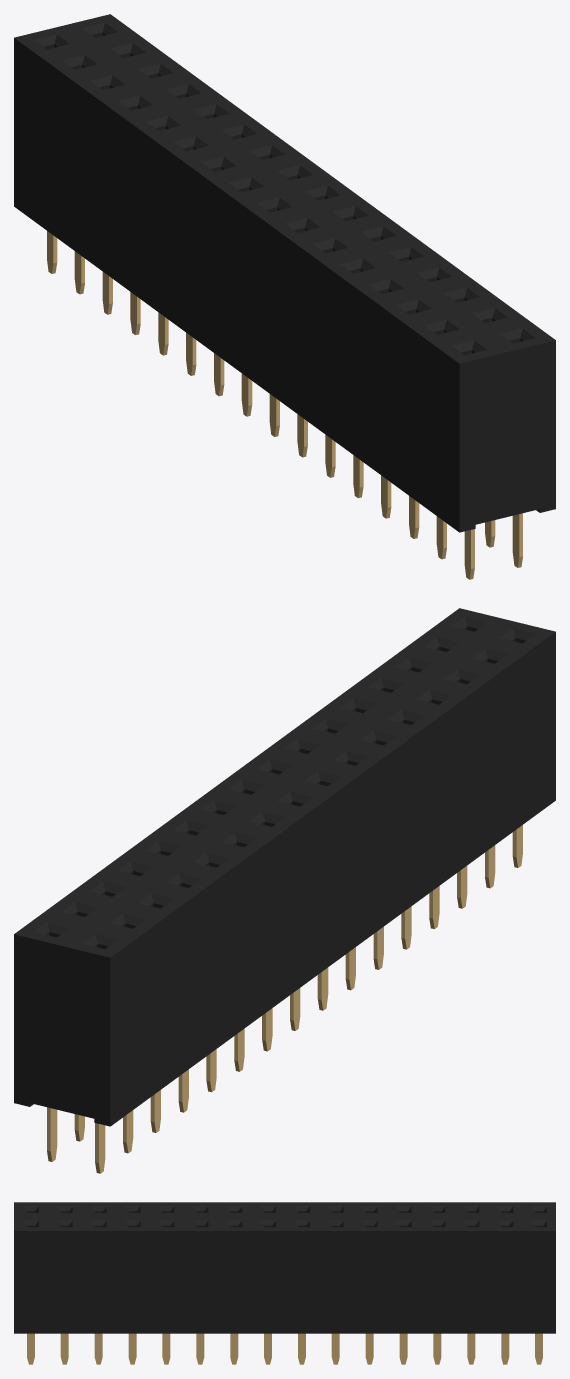
File: kc-pinsocket_2x16_p2.54mm_vertical.glb
3 views of the same model, one above another, from view 1: azimuth 30°, elevation 25°; view 2: azimuth 150°, elevation 25°; view 3: azimuth 270°, elevation 25° (orthographic). The views are drawn at different scales.
Parts seen in each view (by area): view 1: 0_0_0_0, 0.75_0.5_0.25_0.9; view 2: 0_0_0_0, 0.75_0.5_0.25_0.9; view 3: 0_0_0_0, 0.75_0.5_0.25_0.9.
Part boxes in pixels (bbox=[...]): 0_0_0_0: bbox=[14, 14, 555, 532]; 0.75_0.5_0.25_0.9: bbox=[47, 231, 522, 579]; 0_0_0_0: bbox=[14, 608, 555, 1126]; 0.75_0.5_0.25_0.9: bbox=[47, 825, 522, 1173]; 0_0_0_0: bbox=[14, 1202, 555, 1333]; 0.75_0.5_0.25_0.9: bbox=[27, 1333, 542, 1364].
Size of the model in its own units: 0.508 by 1.16 by 4.06.
